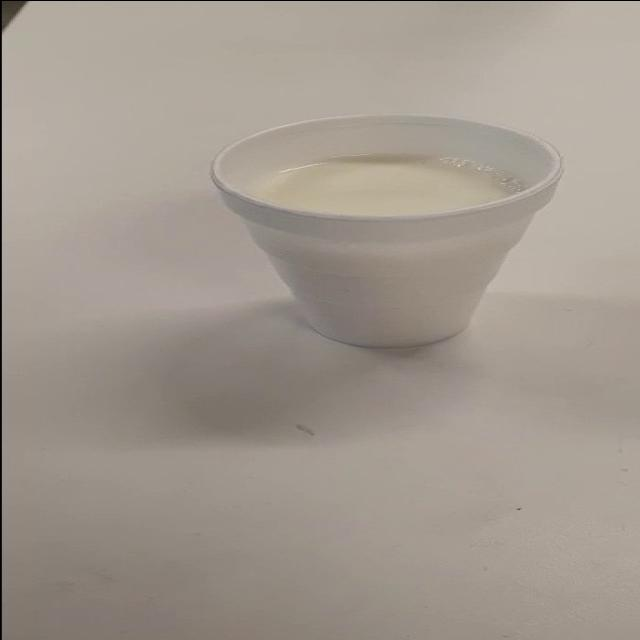Milk: (180, 99, 602, 361)
